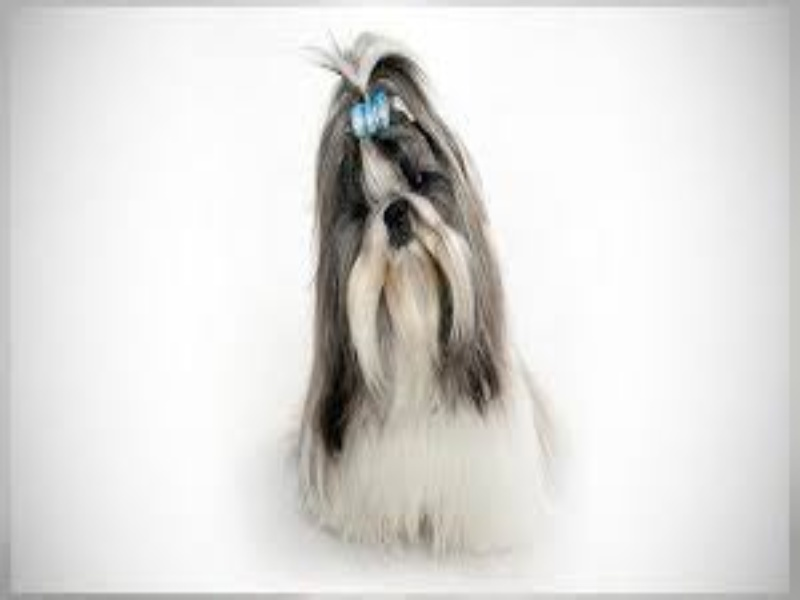dog: (294, 29, 595, 575)
